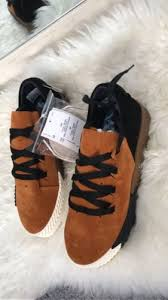adidas AW Skate Sand: (64, 57, 145, 280), (7, 66, 71, 244)
